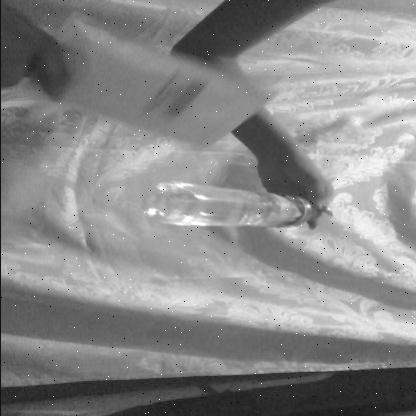Plastic Bottle: (140, 178, 331, 235)
